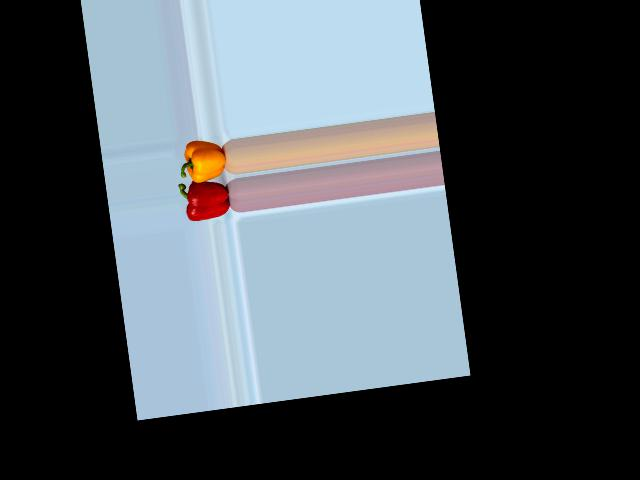bell_pepper: (179, 175, 237, 226)
